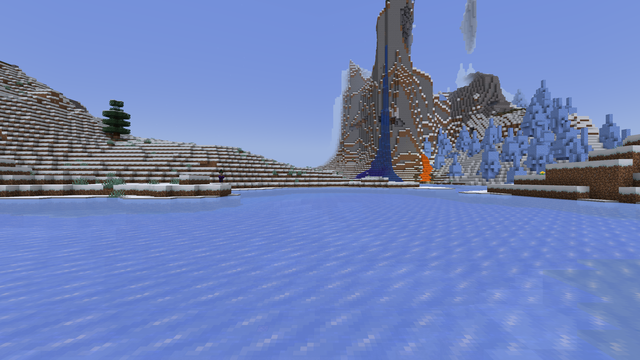sorcieres: (218, 172, 222, 183)
